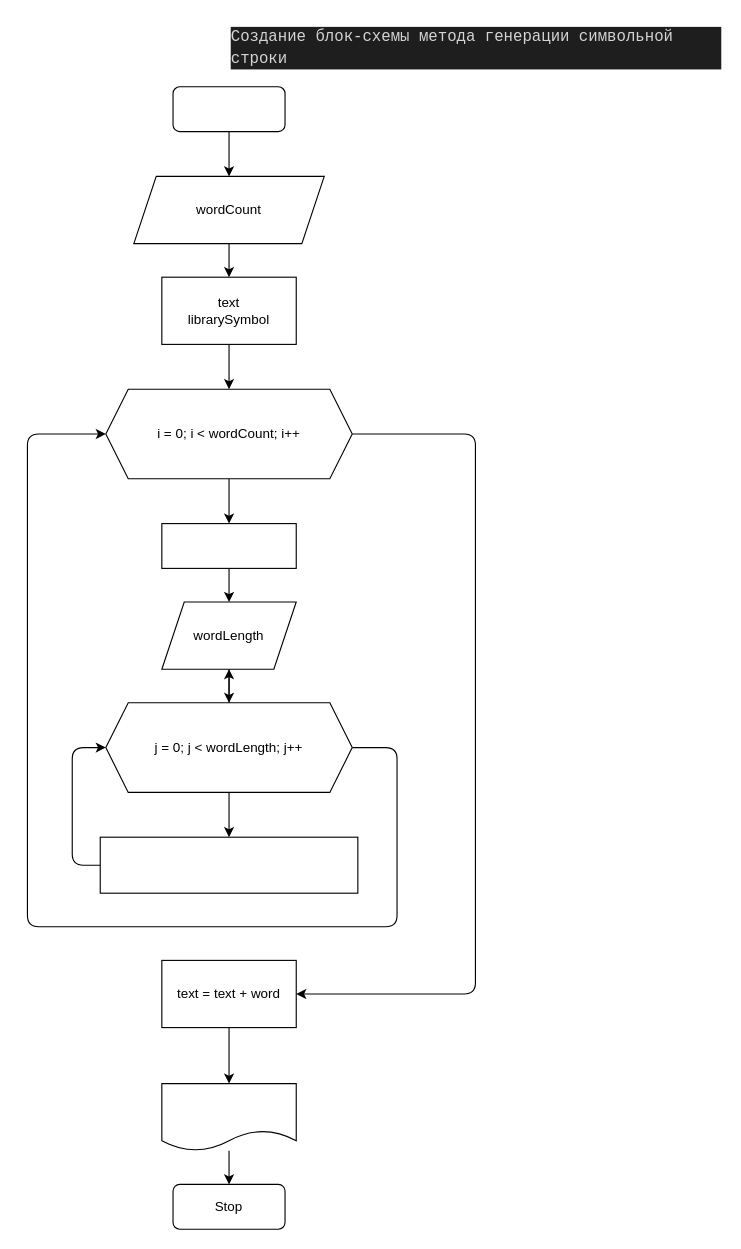
This 741x1249 diagram has some shape labels left out. The centre of each missing label's shape, as x and y in pixels:
Start: pixel 228 109
text: pixel 228 1116
word = " ": pixel 228 545
word = word + librarySymbol: pixel 228 864
